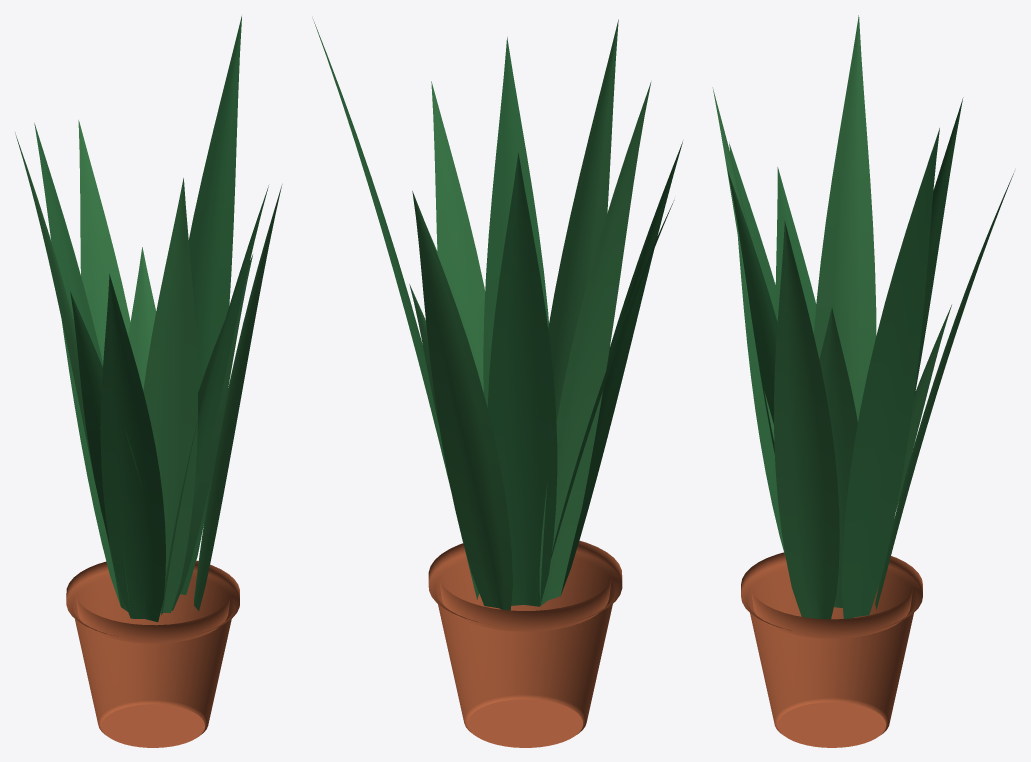
The model's file is snake_terracotta_S.glb.
3 views of the same model, side by side, from view 1: azimuth 30°, elevation 25°; view 2: azimuth 150°, elevation 25°; view 3: azimuth 270°, elevation 25° (orthographic). The views are drawn at different scales.
Parts seen in each view (by area): view 1: Snake Plant (terracotta, S); view 2: Snake Plant (terracotta, S); view 3: Snake Plant (terracotta, S).
Part boxes in pixels (x1,y1,x2,y2): Snake Plant (terracotta, S): (15, 16, 282, 747); Snake Plant (terracotta, S): (312, 18, 682, 747); Snake Plant (terracotta, S): (712, 15, 1014, 747).
Bounding box in the file's own units: 0.2191 × 0.5024 × 0.2066.
